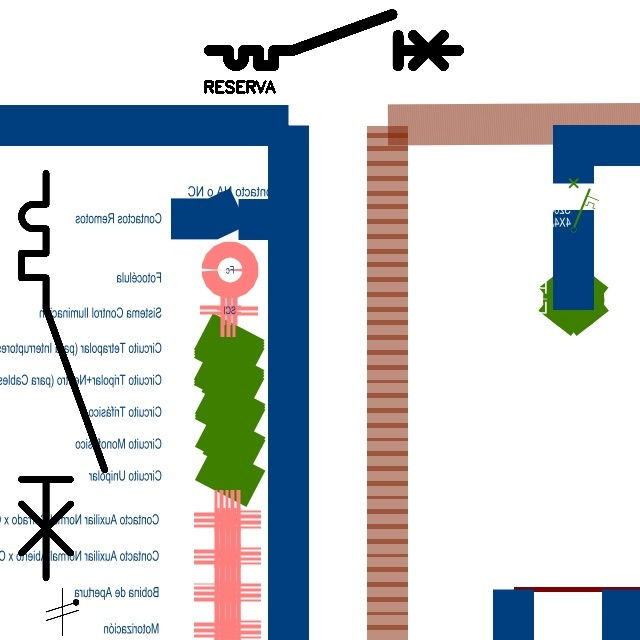interruptor_termomagnetico: (11, 163, 115, 587), (203, 8, 465, 72)
